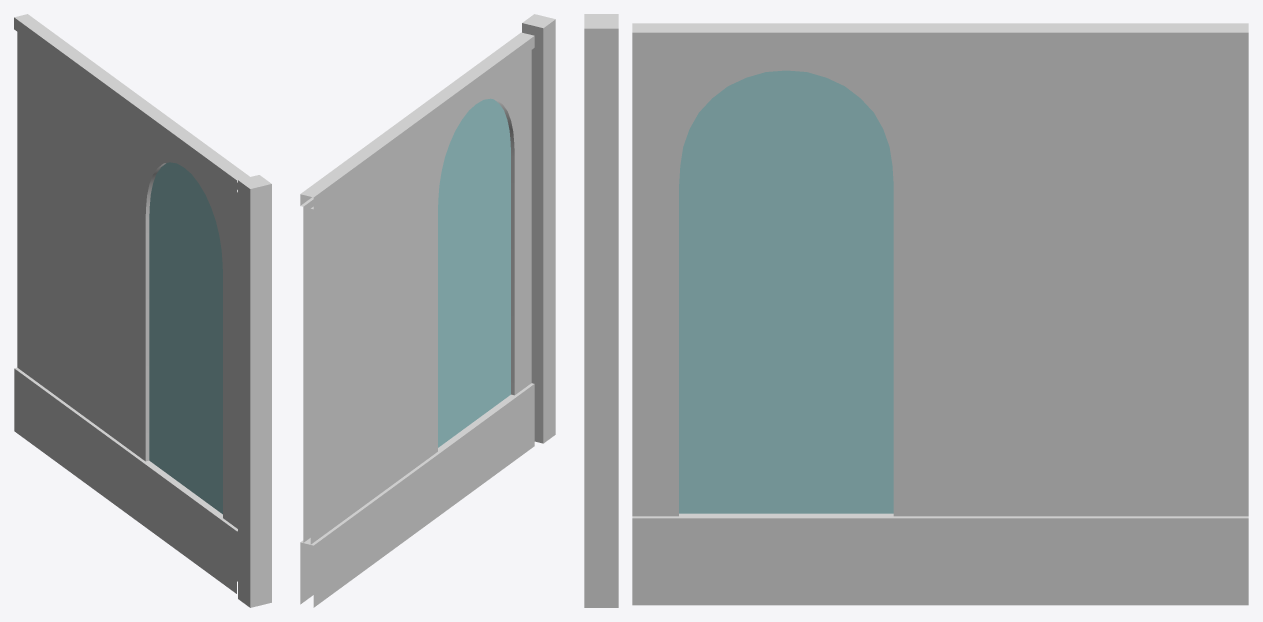
The model's file is WindowWall.fbx.
3 renders of one model, left to right at view 1: azimuth 30°, elevation 25°; view 2: azimuth 150°, elevation 25°; view 3: azimuth 270°, elevation 25°, orthographic. The views are drawn at different scales.
Visible parts, largest first — view 1: WindowlessWall, WindowWall, WindowBeam; view 2: WindowlessWall, WindowWall, WindowBeam; view 3: WindowWall, WindowlessWall, WindowBeam.
Part boxes in pixels (left/top/right/bottom): WindowlessWall: left=14, top=14, right=138, bottom=512; WindowWall: left=125, top=95, right=249, bottom=593; WindowBeam: left=238, top=175, right=271, bottom=607; WindowlessWall: left=300, top=113, right=424, bottom=607; WindowWall: left=411, top=32, right=534, bottom=526; WindowBeam: left=522, top=14, right=555, bottom=443; WindowWall: left=632, top=23, right=940, bottom=605; WindowlessWall: left=940, top=23, right=1248, bottom=605; WindowBeam: left=584, top=14, right=618, bottom=607.
Size of the model in its own units: 0.2234 by 4.15 by 4.31.
